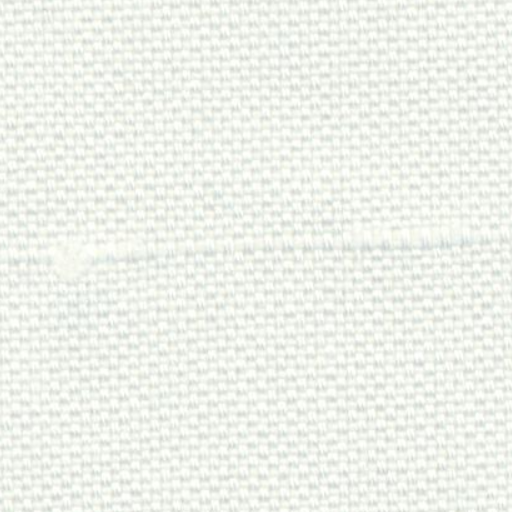DaiSha: (54, 214, 496, 282)
